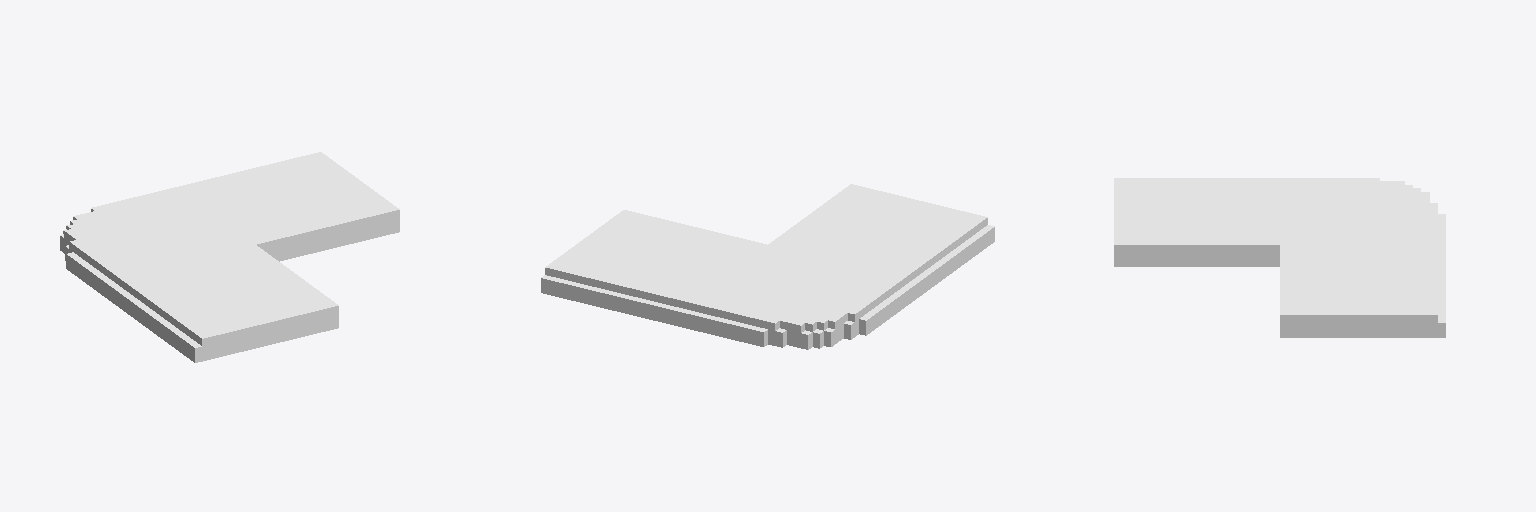
The model's file is Path3.obj.
3 renders of one model, left to right at view 1: azimuth 30°, elevation 25°; view 2: azimuth 150°, elevation 25°; view 3: azimuth 270°, elevation 25°, orthographic.
Parts seen in each view (by area): view 1: object 1; view 2: object 1; view 3: object 1.
Part boxes in pixels (left/top/right/bottom): object 1: left=60, top=152, right=399, bottom=362; object 1: left=541, top=184, right=994, bottom=349; object 1: left=1114, top=178, right=1445, bottom=337.
Bounding box in the file's own units: 4 × 0.3 × 4.